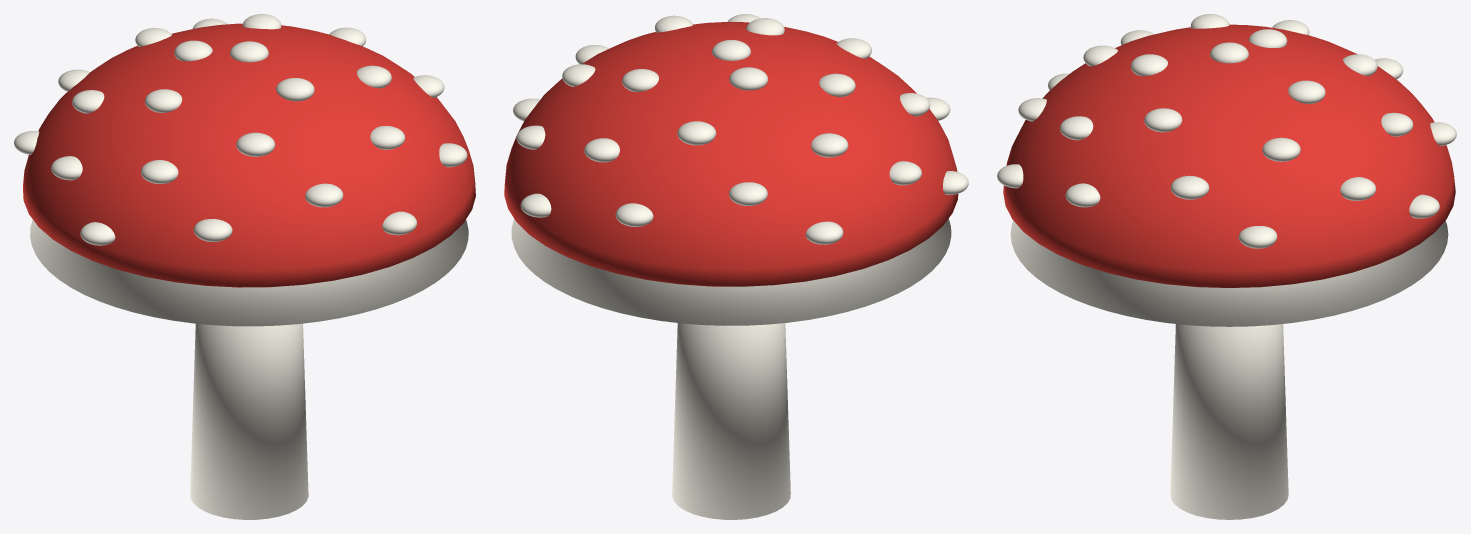
Rendered from mushroom.glb.
The picture shows the model from 3 angles, left to right: view 1: azimuth 30°, elevation 25°; view 2: azimuth 150°, elevation 25°; view 3: azimuth 270°, elevation 25°; orthographic projection.
Visible parts, largest first — view 1: Cap; view 2: Cap; view 3: Cap.
Boxes of the visible parts, box(x1,y1,x2,y2) form: Cap: box(14, 14, 475, 519); Cap: box(504, 14, 968, 519); Cap: box(997, 14, 1456, 519).
Size of the model in its own units: 2.49 by 2.67 by 2.48.
